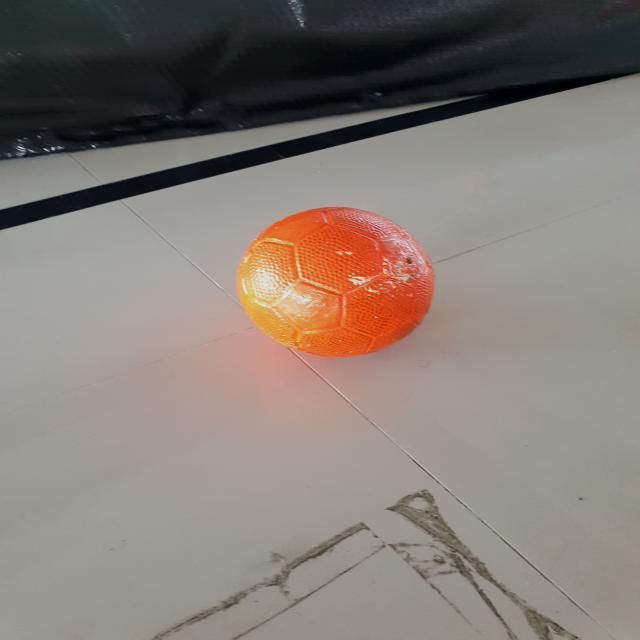bola: (230, 202, 444, 362)
